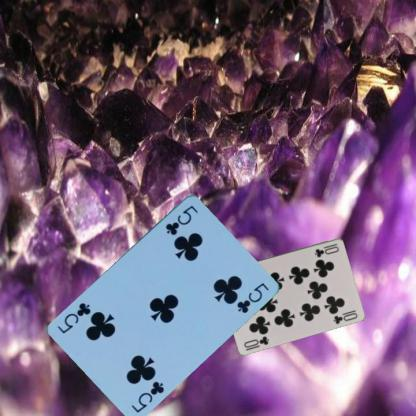10c: (312, 241, 340, 258), (242, 334, 271, 348)
5c: (129, 378, 165, 414), (162, 202, 200, 236)
